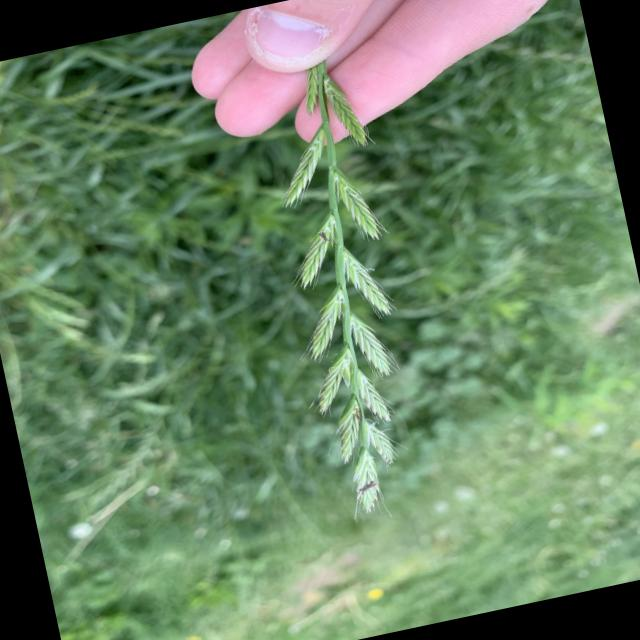Lolium: (238, 53, 451, 529)
